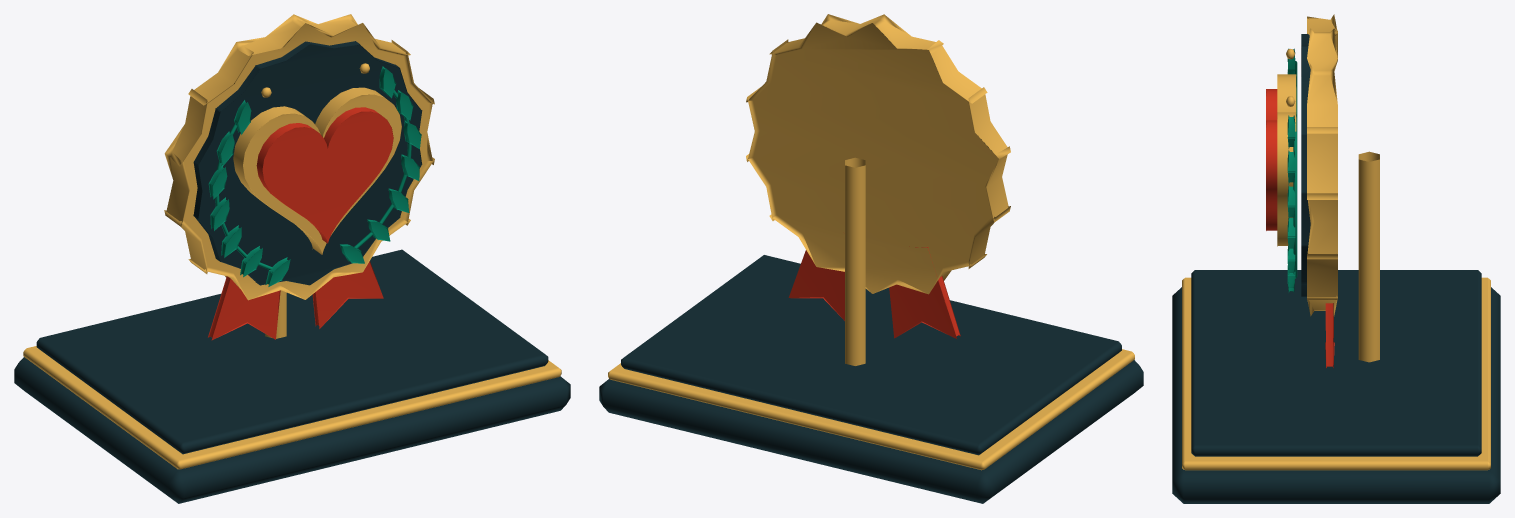
File: chess.insignia.heart.glb
The picture shows the model from 3 angles, left to right: view 1: azimuth 30°, elevation 25°; view 2: azimuth 150°, elevation 25°; view 3: azimuth 270°, elevation 25°; orthographic projection. The views are drawn at different scales.
Parts seen in each view (by area): view 1: stand_top, recessed_enamel, stand_base, cast_medal_rim, faceted_symbol_enamel, stand_gold_band, raised_symbol_setting, ribbon_tail, ribbon_tail.001; view 2: cast_medal_rim, stand_top, stand_base, stand_gold_band, medallion_support, ribbon_tail, ribbon_tail.001; view 3: stand_top, stand_base, cast_medal_rim, stand_gold_band, medallion_support, raised_symbol_setting, recessed_enamel, faceted_symbol_enamel, ribbon_tail.001, laurel_stem.001.
Boxes of the visible parts, x1,y1,x2,y2 form: stand_top: (36, 249, 548, 454); recessed_enamel: (193, 41, 422, 285); stand_base: (14, 357, 570, 503); cast_medal_rim: (164, 14, 434, 300); faceted_symbol_enamel: (256, 107, 393, 243); stand_gold_band: (23, 346, 561, 469); raised_symbol_setting: (233, 87, 401, 254); ribbon_tail: (208, 276, 280, 340); ribbon_tail.001: (312, 261, 383, 328); cast_medal_rim: (746, 14, 1010, 294); stand_top: (621, 255, 1121, 455); stand_base: (599, 360, 1143, 503); stand_gold_band: (608, 349, 1134, 470); medallion_support: (845, 157, 865, 365); ribbon_tail: (889, 246, 960, 338); ribbon_tail.001: (788, 250, 844, 320); stand_top: (1191, 270, 1481, 456); stand_base: (1172, 287, 1500, 503); cast_medal_rim: (1307, 14, 1337, 316); stand_gold_band: (1182, 277, 1490, 470); medallion_support: (1358, 151, 1379, 362); raised_symbol_setting: (1277, 74, 1296, 246); recessed_enamel: (1301, 34, 1310, 296); faceted_symbol_enamel: (1266, 89, 1277, 230); ribbon_tail.001: (1325, 303, 1334, 368); laurel_stem.001: (1293, 131, 1297, 278).
Bounding box in the file's own units: 0.672 × 0.6192 × 0.48.
